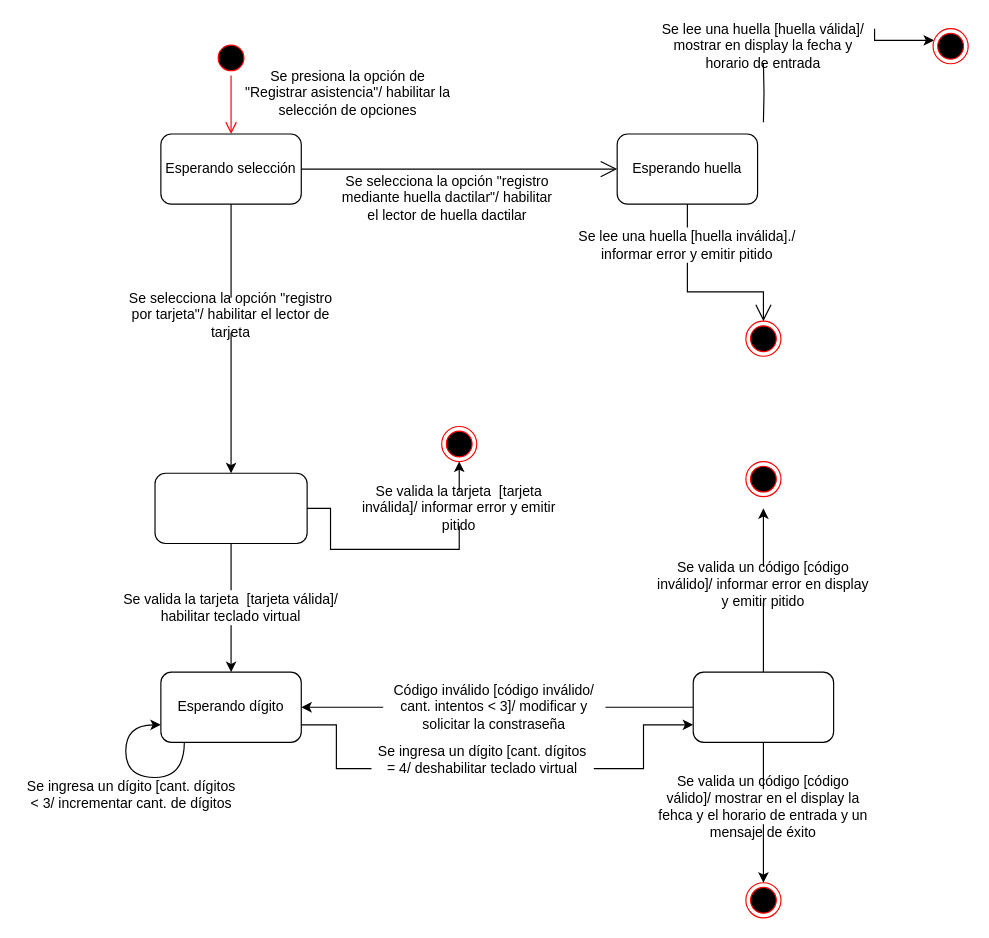
Image size: 989x938. Some labels were removed from this diagram. The shapes that lost their labels are listed below. From the top down, each one's centre as x and y in pixels, then its label:
At pixel 230 507: "Esperando tarjeta".
At pixel 763 706: "Verificando código".
